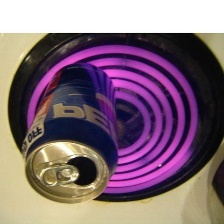can: (18, 58, 124, 209)
